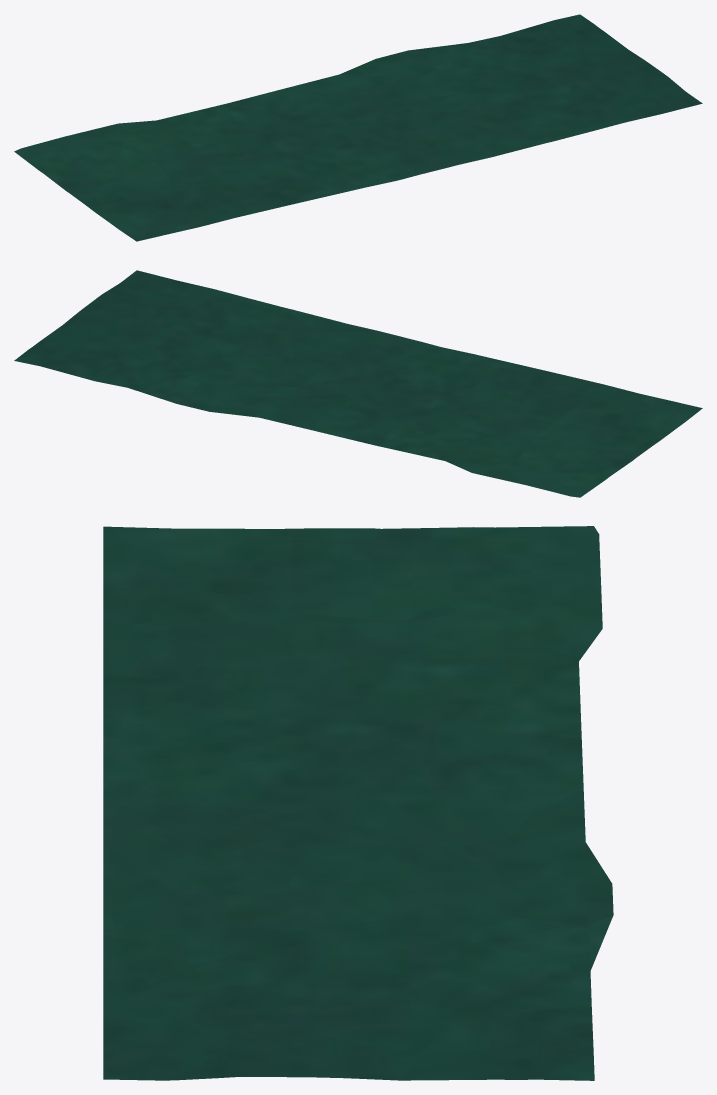
3 views of the same model, one above another, from view 1: azimuth 30°, elevation 25°; view 2: azimuth 150°, elevation 25°; view 3: azimuth 270°, elevation 25° (orthographic). The views are drawn at different scales.
Bounding box in the file's own units: 52.22 × 0.3631 × 20.38.
1 material, 1 textured.
